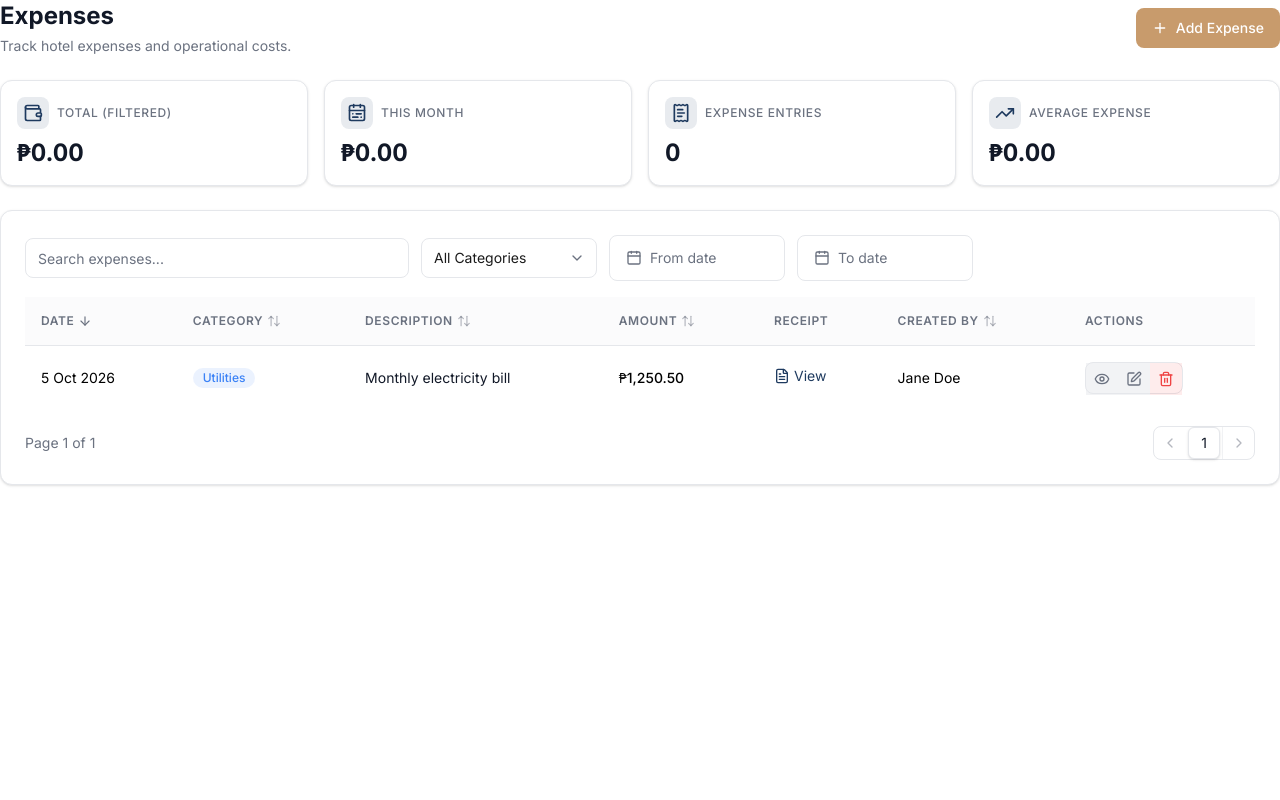
Test: ExpensesPage › opens the expense detail modal with all facts
The image size is (1280, 800).
Click the button titled "View" at x=1102, y=378, box [1086,362,1118,394]
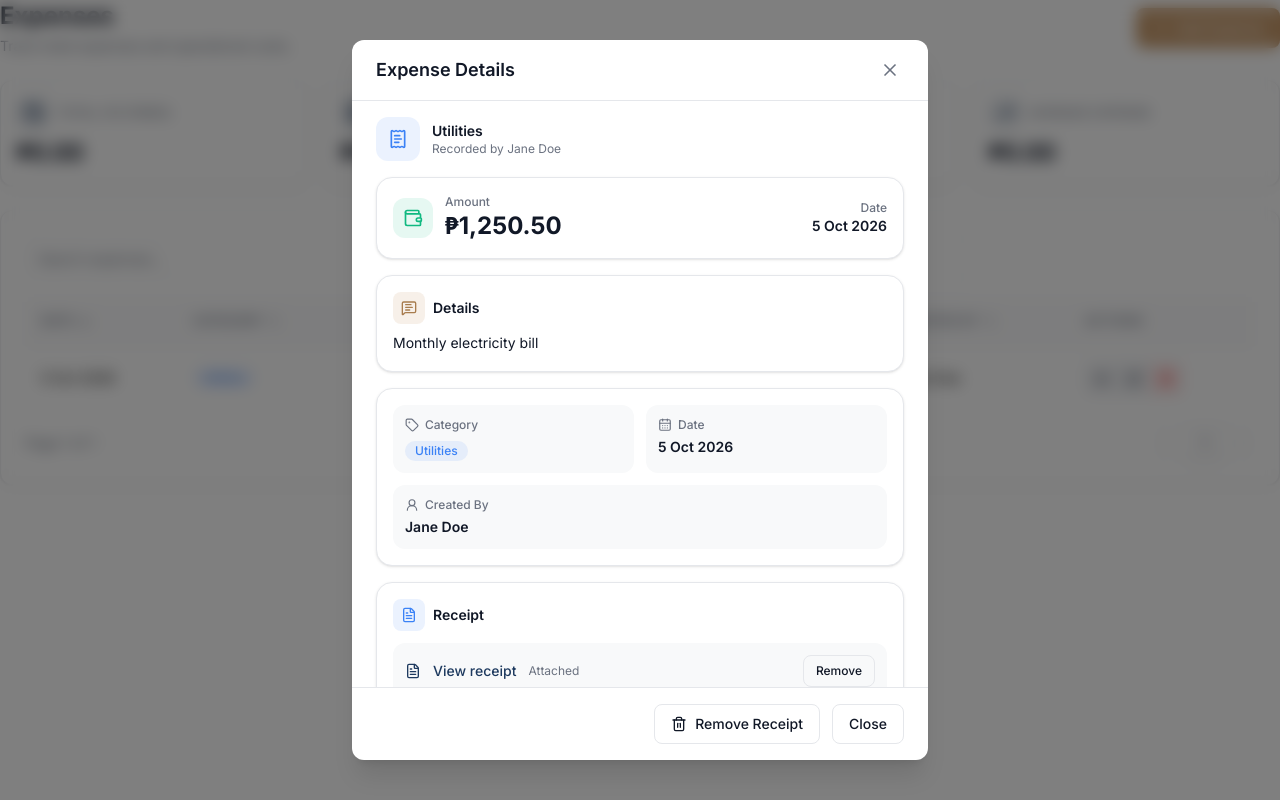
Check: the heading "Expense Details" is shown, box [376,56,515,84]
Check: the text "Recorded by Jane Doe" is shown, box [432,141,561,157]
Check: the heading "Details" is shown, box [433,298,480,318]
